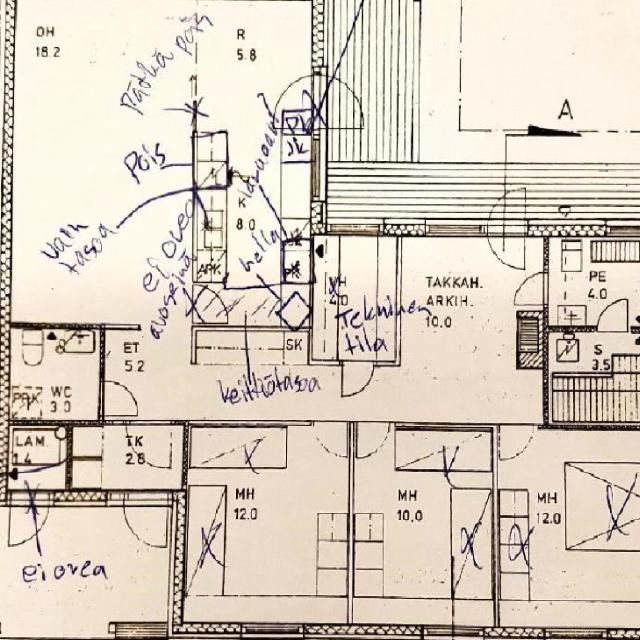door: (124, 493, 168, 557), (126, 423, 170, 479), (487, 218, 524, 274), (487, 178, 524, 234), (313, 424, 346, 466), (357, 424, 390, 466), (500, 423, 532, 465), (342, 358, 373, 398), (513, 272, 550, 305), (597, 292, 627, 332), (100, 382, 136, 415)
